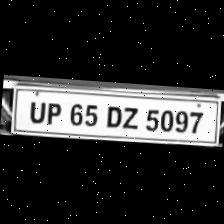0: (157, 106, 174, 132)
5: (76, 99, 98, 127), (140, 104, 162, 130)
6: (58, 99, 82, 125)
7: (184, 107, 205, 134)
9: (171, 106, 190, 134)
D: (98, 101, 122, 128)
P: (40, 98, 62, 124)
U: (22, 96, 46, 122)
Z: (117, 103, 140, 130)
